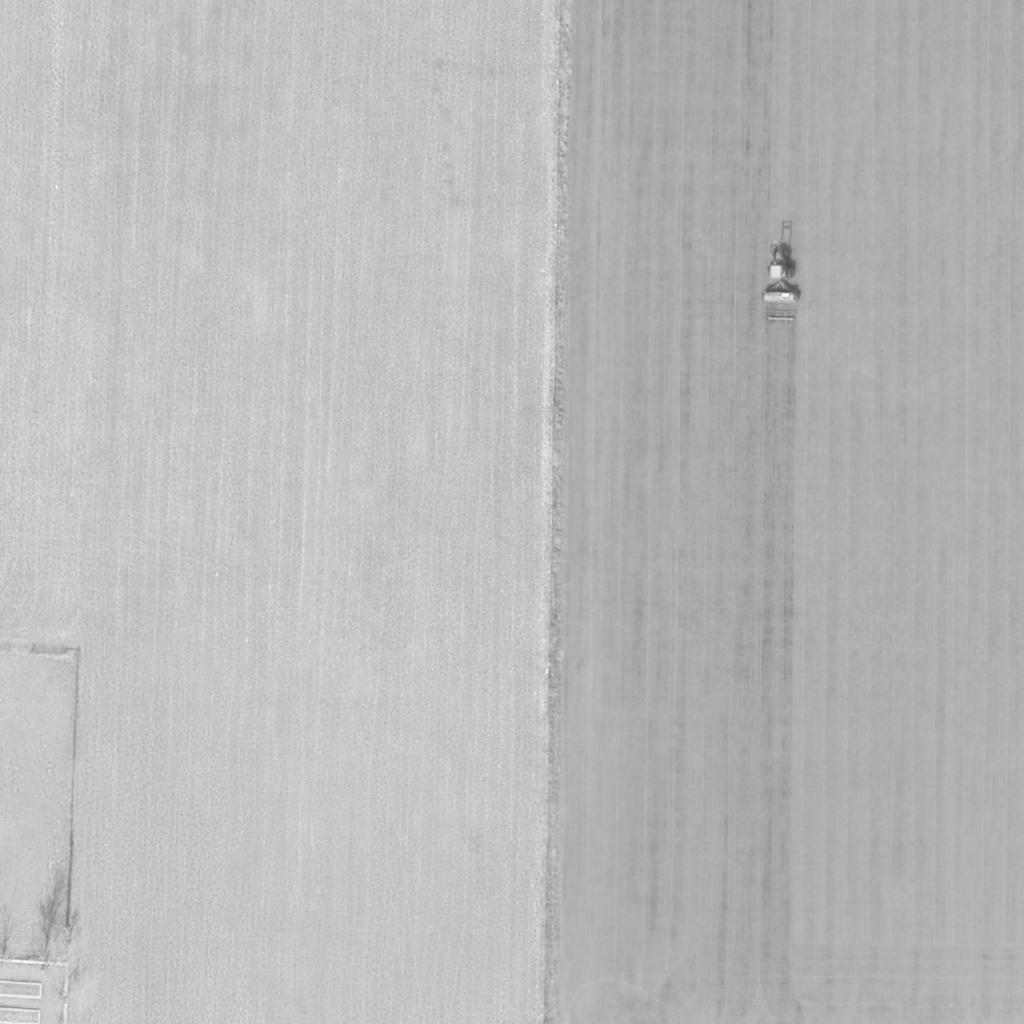vehicle: (763, 241, 797, 279)
